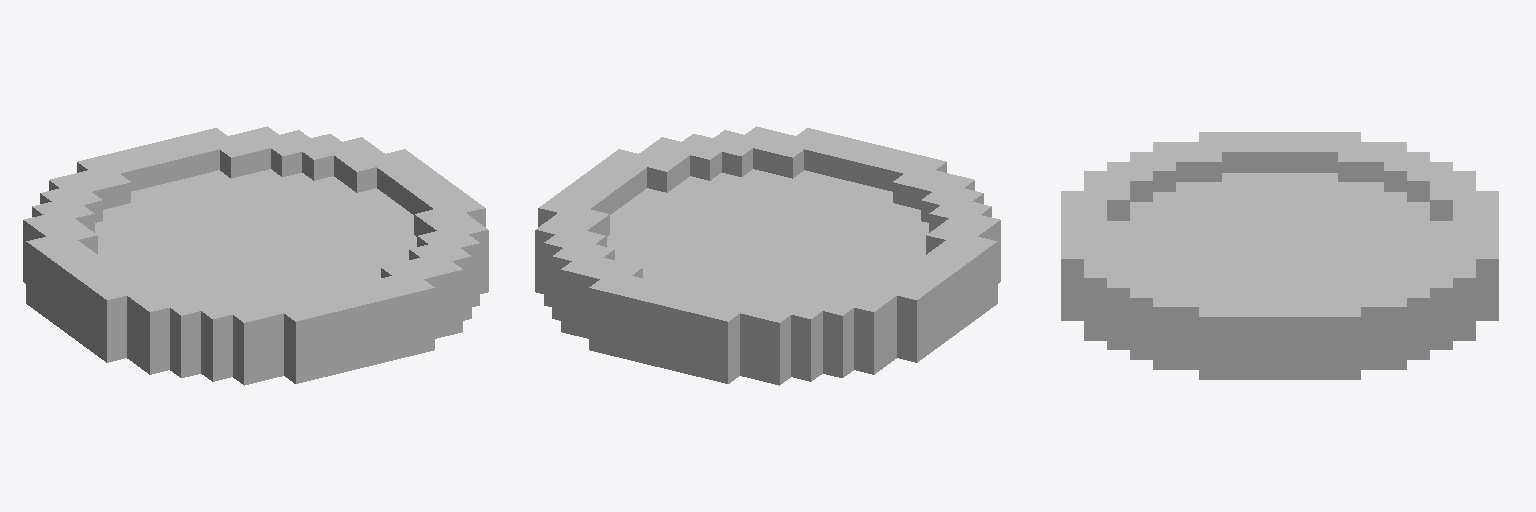
File: Coin.obj
3 renders of one model, left to right at view 1: azimuth 30°, elevation 25°; view 2: azimuth 150°, elevation 25°; view 3: azimuth 270°, elevation 25°, orthographic.
Parts seen in each view (by area): view 1: object 1; view 2: object 1; view 3: object 1.
Boxes of the visible parts, x1,y1,x2,y2 form: object 1: [23, 126, 488, 385]; object 1: [535, 126, 1000, 385]; object 1: [1061, 132, 1498, 379].
Bounding box in the file's own units: 1.9 × 0.3 × 1.9.